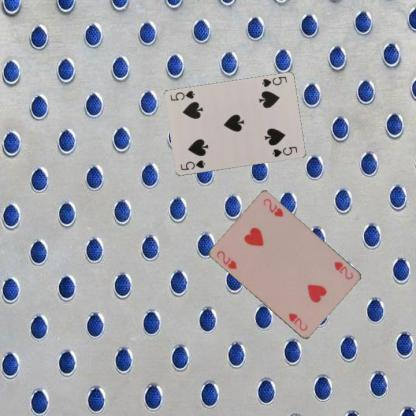2h: (214, 248, 239, 270), (332, 259, 354, 281)
5s: (178, 158, 206, 172), (260, 74, 288, 88)
